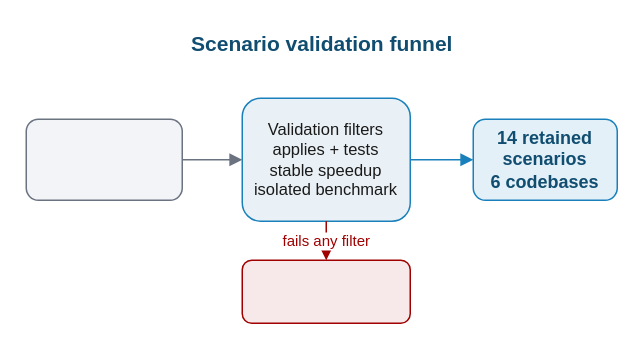
The diagram is 644 pixels wide and 350 high, and some of its shapes have lost their labels. The centre of each missing label's shape, as x and y in pixels:
"27 excluded during validation" goes at (325,291).
"41 candidate merged perf PRs" goes at (103,159).
